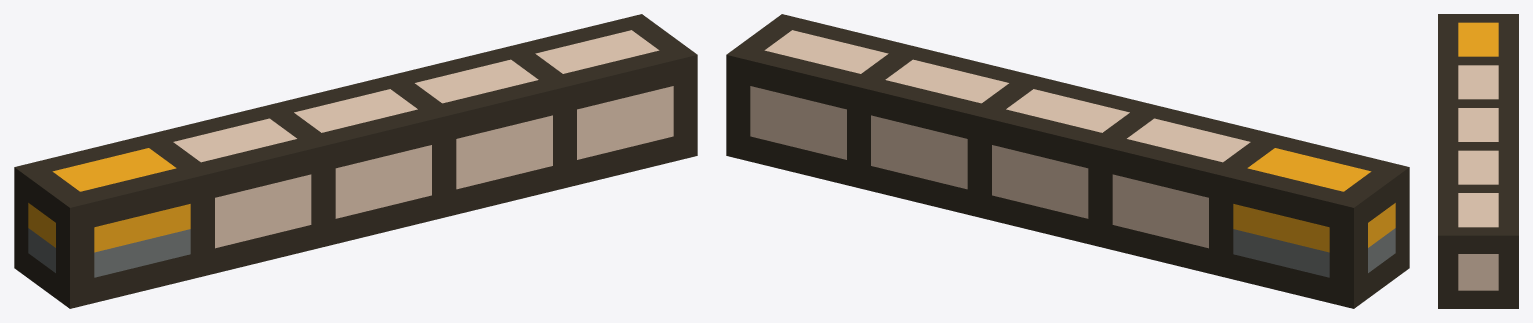
The model's file is meter_1.gltf.
The picture shows the model from 3 angles, left to right: view 1: azimuth 30°, elevation 25°; view 2: azimuth 150°, elevation 25°; view 3: azimuth 270°, elevation 25°; orthographic projection. The views are drawn at different scales.
Bounding box in the file's own units: 2.6 × 0.4 × 0.4.
1 material, 1 textured.
